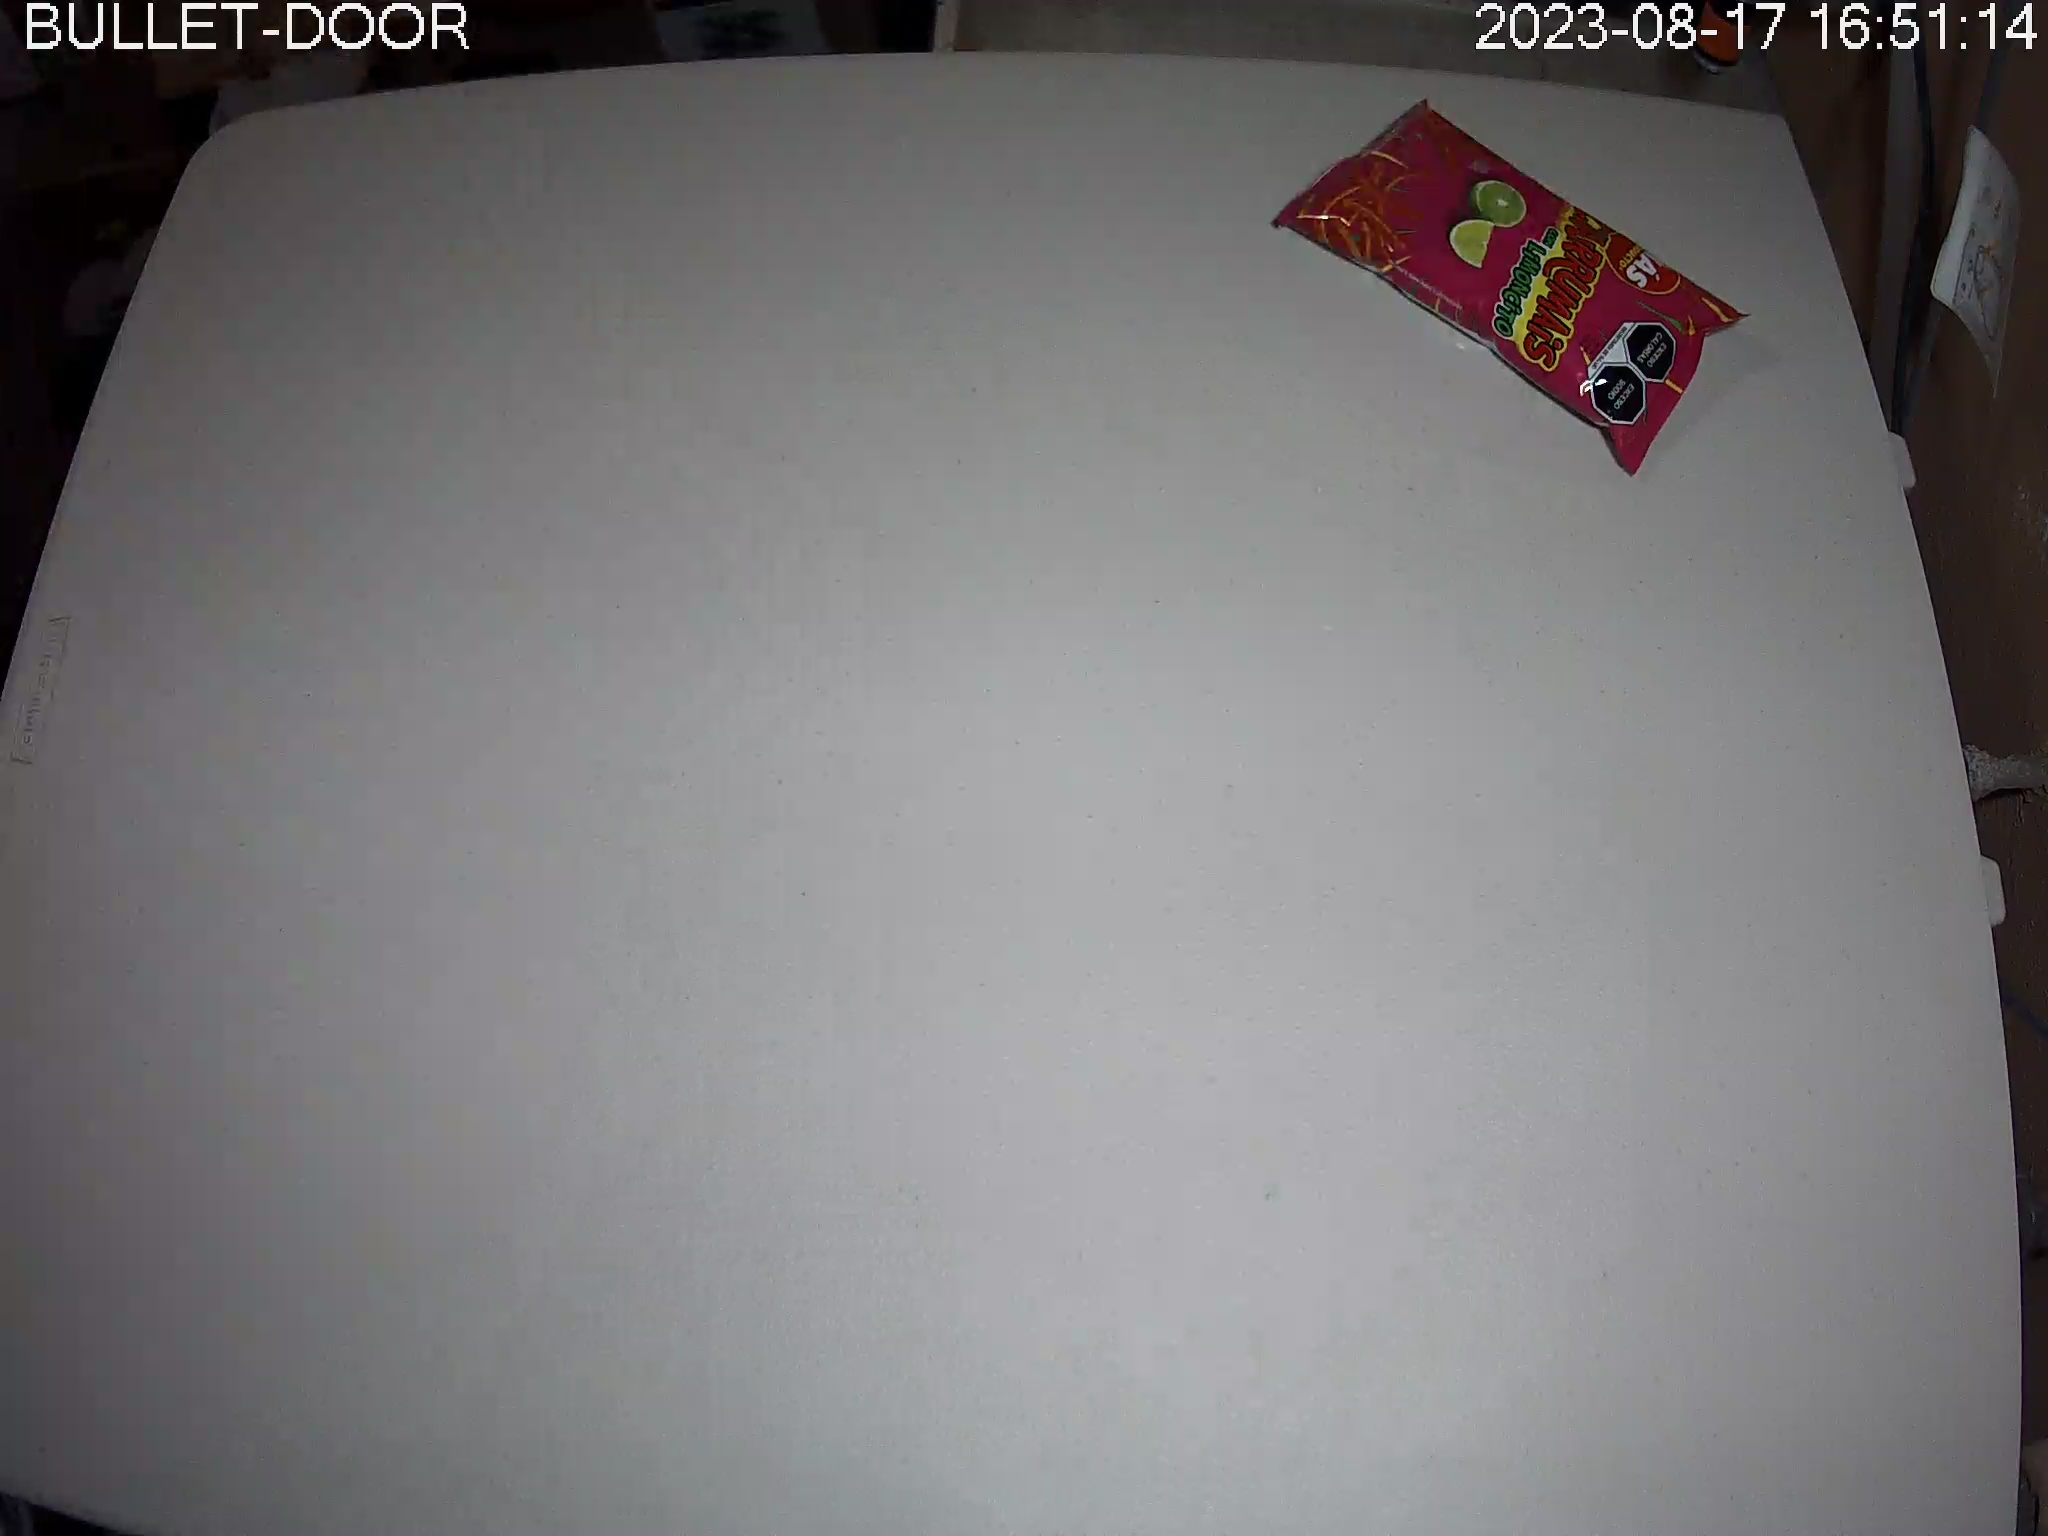Churrumais_70_F: (1272, 98, 1755, 478)
